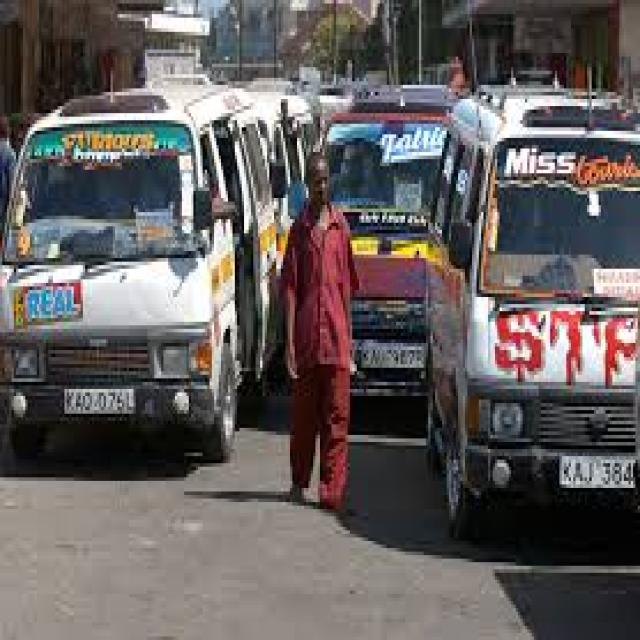matatu: (2, 73, 268, 482), (432, 87, 640, 567), (320, 56, 425, 480)
